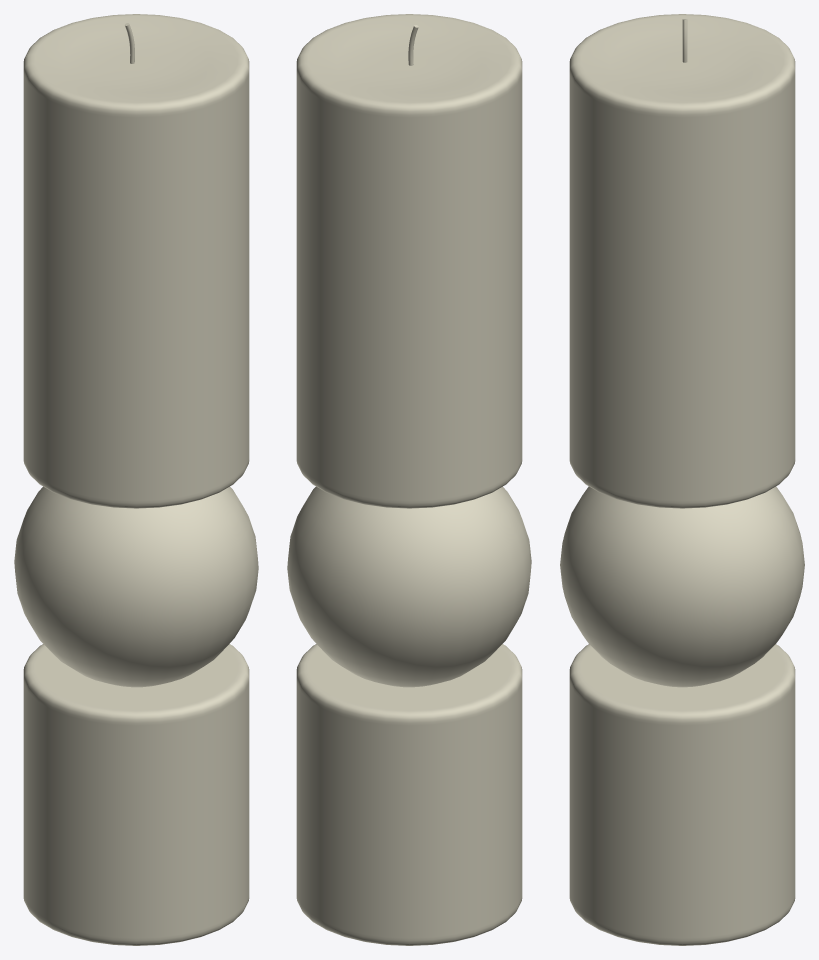
The model's file is bougie2_t.fbx.
3 views of the same model, side by side, from view 1: azimuth 30°, elevation 25°; view 2: azimuth 150°, elevation 25°; view 3: azimuth 270°, elevation 25° (orthographic).
Visible parts, largest first — view 1: Decoration 14.001; view 2: Decoration 14.001; view 3: Decoration 14.001.
Boxes of the visible parts, x1,y1,x2,y2 form: Decoration 14.001: (14,14,258,945); Decoration 14.001: (287,14,531,945); Decoration 14.001: (560,14,804,945).
Size of the model in its own units: 10.63 by 42.02 by 10.63.
